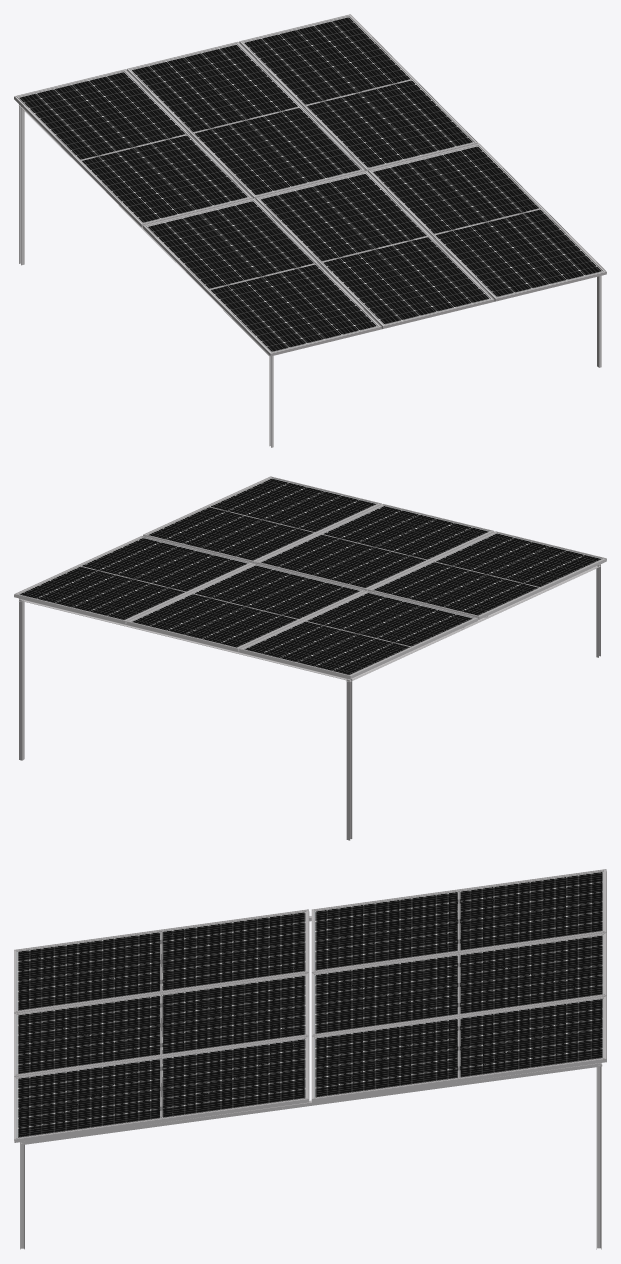
3 renders of one model, top to bottom at view 1: azimuth 30°, elevation 25°; view 2: azimuth 150°, elevation 25°; view 3: azimuth 270°, elevation 25°, orthographic. The views are drawn at different scales.
Visible parts, largest first — view 1: 3KW SOLARPANEL; view 2: 3KW SOLARPANEL; view 3: 3KW SOLARPANEL.
Part boxes in pixels (box(x1,y1,x2,y2)): 3KW SOLARPANEL: box(14, 14, 606, 447); 3KW SOLARPANEL: box(14, 476, 606, 840); 3KW SOLARPANEL: box(14, 869, 606, 1249).
Size of the model in its own units: 1.37 by 0.6494 by 1.81.
Materials: 1 (1 with a texture image).
